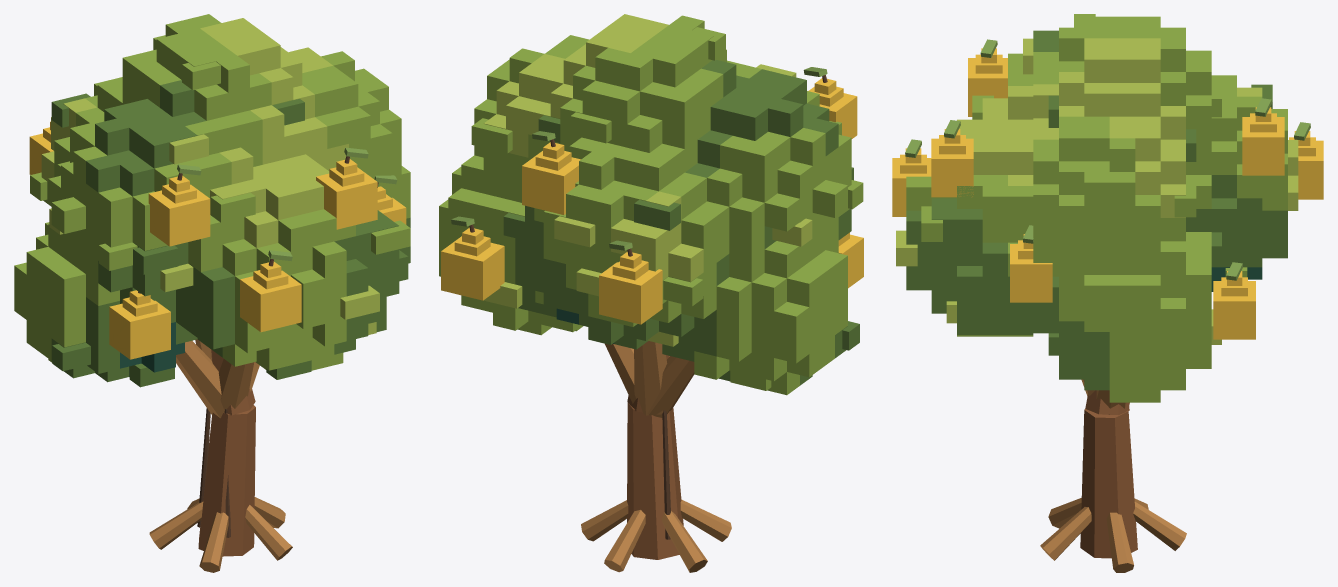
The model's file is tree_pear.glb.
3 views of the same model, side by side, from view 1: azimuth 30°, elevation 25°; view 2: azimuth 150°, elevation 25°; view 3: azimuth 270°, elevation 25° (orthographic). The views are drawn at different scales.
Parts seen in each view (by area): view 1: canopy__tree_leaf_light.029, canopy__tree_leaf_mid.029, canopy__tree_leaf_sun.029, fruit__yellow2.008, body__wood2.033, body__wood.034, canopy__tree_leaf_shadow.029, body__wood_dark.037, fruit__leaf2.010; view 2: canopy__tree_leaf_light.029, canopy__tree_leaf_mid.029, canopy__tree_leaf_sun.029, fruit__yellow2.008, body__wood2.033, body__wood.034, body__wood_dark.037, fruit__leaf2.010; view 3: canopy__tree_leaf_light.029, canopy__tree_leaf_mid.029, canopy__tree_leaf_sun.029, fruit__yellow2.008, body__wood.034, body__wood2.033, fruit__leaf2.010.
Boxes of the visible parts, x1,y1,x2,y2 form: canopy__tree_leaf_light.029: [14, 14, 410, 370]; canopy__tree_leaf_mid.029: [51, 80, 410, 387]; canopy__tree_leaf_sun.029: [41, 18, 379, 334]; fruit__yellow2.008: [29, 121, 406, 359]; body__wood2.033: [149, 339, 292, 572]; body__wood.034: [198, 350, 255, 556]; canopy__tree_leaf_shadow.029: [120, 322, 184, 376]; body__wood_dark.037: [138, 156, 378, 537]; fruit__leaf2.010: [177, 147, 397, 261]; canopy__tree_leaf_light.029: [439, 15, 863, 395]; canopy__tree_leaf_mid.029: [503, 60, 859, 385]; canopy__tree_leaf_sun.029: [483, 14, 812, 346]; fruit__yellow2.008: [441, 78, 863, 324]; body__wood2.033: [581, 341, 731, 572]; body__wood.034: [627, 355, 683, 559]; body__wood_dark.037: [469, 75, 827, 539]; fruit__leaf2.010: [451, 67, 827, 250]; canopy__tree_leaf_light.029: [906, 14, 1287, 402]; canopy__tree_leaf_mid.029: [906, 30, 1287, 390]; canopy__tree_leaf_sun.029: [896, 38, 1298, 344]; fruit__yellow2.008: [892, 48, 1323, 339]; body__wood.034: [1080, 390, 1137, 558]; body__wood2.033: [1040, 379, 1186, 572]; fruit__leaf2.010: [905, 39, 1310, 280].
Bounding box in the file's own units: 2.93 × 3.97 × 3.05.
